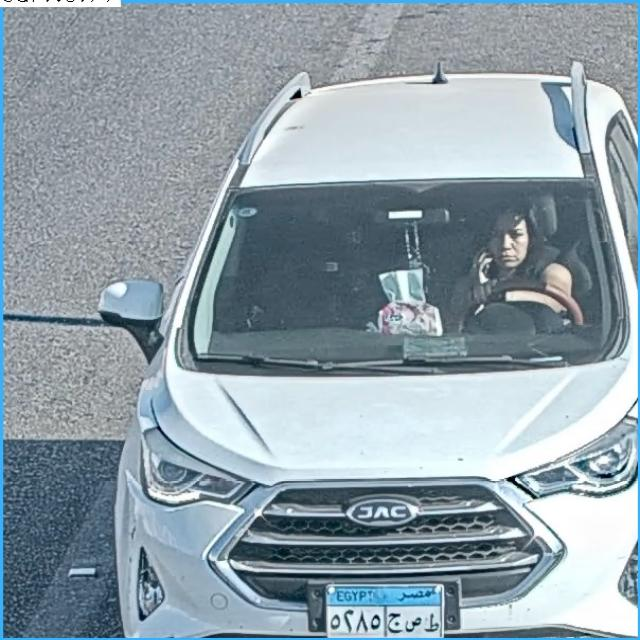windshield: (179, 188, 623, 362)
